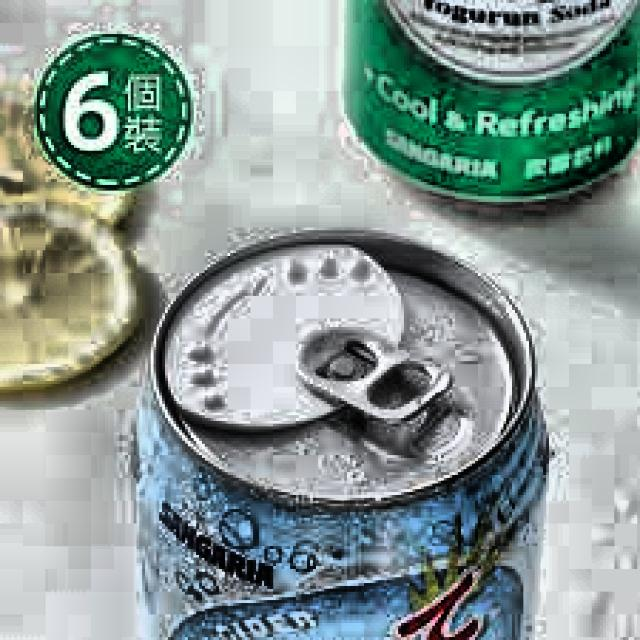can: (113, 218, 561, 640), (338, 0, 640, 208)
